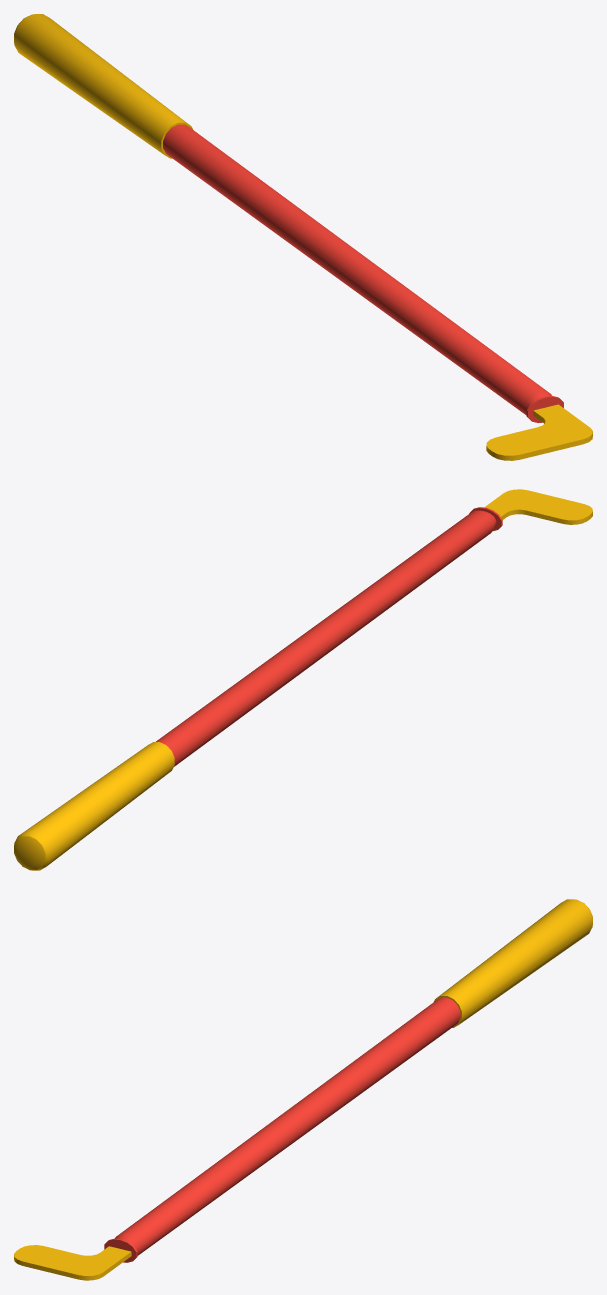
File: Golf_Stick.fbx
3 renders of one model, top to bottom at view 1: azimuth 30°, elevation 25°; view 2: azimuth 150°, elevation 25°; view 3: azimuth 330°, elevation 25°, orthographic. The views are drawn at different scales.
Visible parts, largest first — view 1: Golf_Stick; view 2: Golf_Stick; view 3: Golf_Stick.
Boxes of the visible parts, box(x1,y1,x2,y2) form: Golf_Stick: box(14, 14, 592, 460); Golf_Stick: box(14, 489, 592, 870); Golf_Stick: box(14, 899, 592, 1280).
Size of the model in its own units: 8.73 by 3.4 by 80.24.
Materials: 1 (1 with a texture image).
